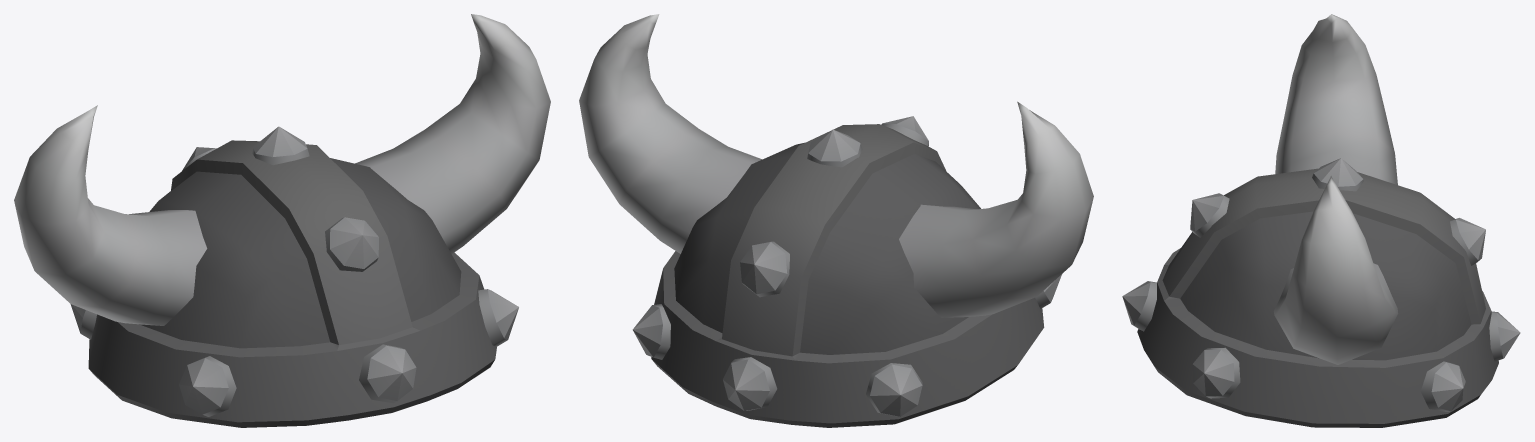
File: Headgear_62.fbx
The picture shows the model from 3 angles, left to right: view 1: azimuth 30°, elevation 25°; view 2: azimuth 150°, elevation 25°; view 3: azimuth 270°, elevation 25°; orthographic projection. The views are drawn at different scales.
Visible parts, largest first — view 1: Headgear_62; view 2: Headgear_62; view 3: Headgear_62.
Boxes of the visible parts, x1,y1,x2,y2 form: Headgear_62: (14,14,550,427); Headgear_62: (579,14,1093,427); Headgear_62: (1122,14,1520,427).
Size of the model in its own units: 107 by 61.14 by 80.16.
